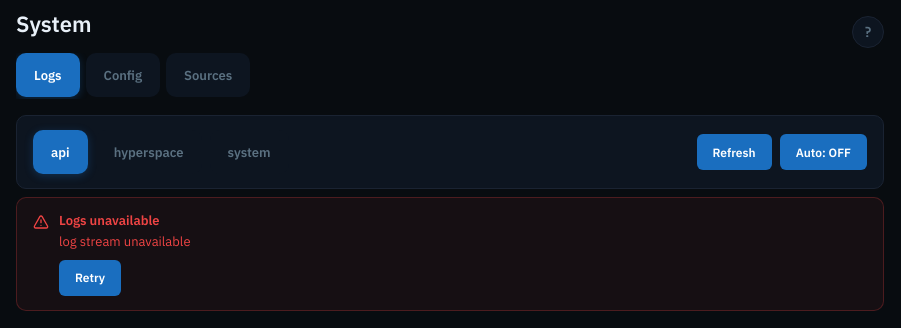
it: SystemLogs view async data › shows an error state on failure and refetches on retry
The width and height of the screenshot is (901, 328).
Expected: the text "log stream unavailable" is shown, [59,233,190,250]
Click the button "Retry" at (90, 278), box [59,260,121,296]
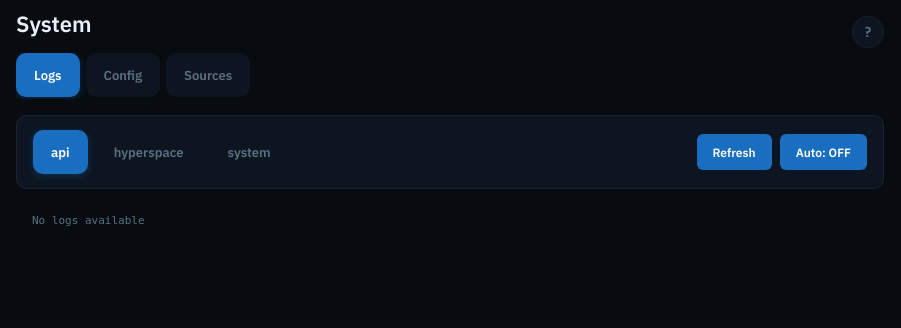
Now the text "log stream unavailable" is gone
